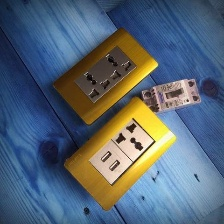three_eye_plug: (61, 92, 178, 213), (49, 23, 161, 126)
